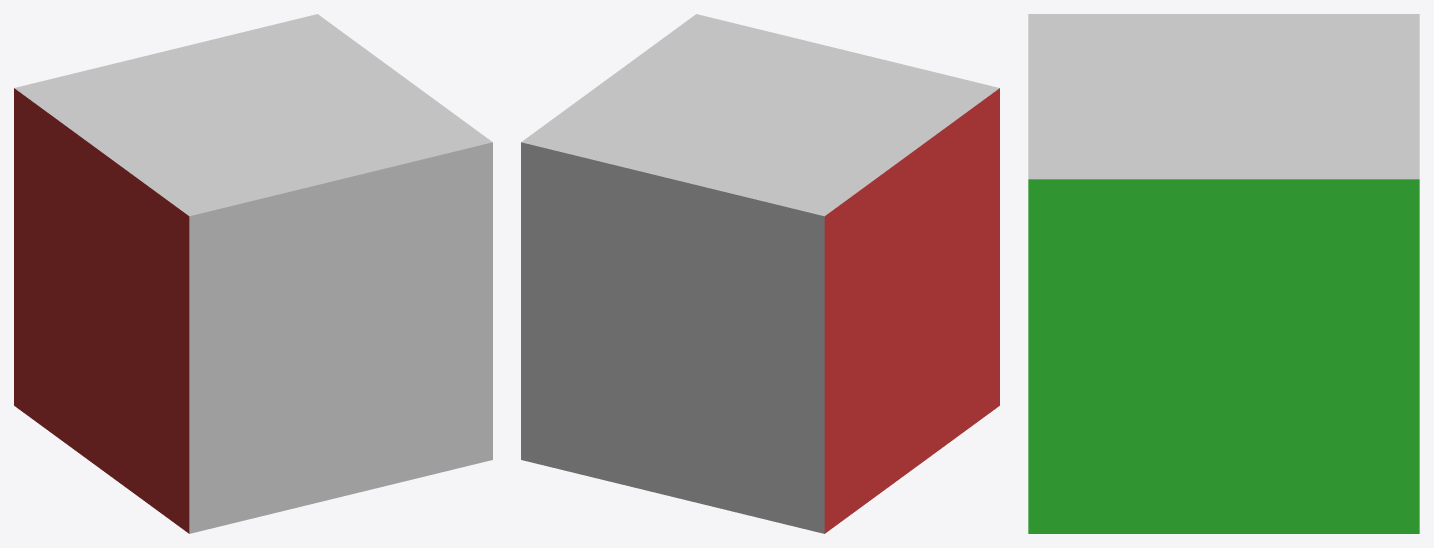
File: cornell_box_closed.gltf
The picture shows the model from 3 angles, left to right: view 1: azimuth 30°, elevation 25°; view 2: azimuth 150°, elevation 25°; view 3: azimuth 270°, elevation 25°; orthographic projection. The views are drawn at different scales.
Parts seen in each view (by area): view 1: FrontWall, LeftWall, Ceiling; view 2: BackWall, LeftWall, Ceiling; view 3: RightWall, Ceiling.
Part boxes in pixels (x1=…): FrontWall: x1=189, y1=142, x2=492, y2=533; LeftWall: x1=14, y1=88, x2=189, y2=533; Ceiling: x1=14, y1=14, x2=492, y2=216; BackWall: x1=521, y1=142, x2=824, y2=533; LeftWall: x1=824, y1=88, x2=999, y2=533; Ceiling: x1=521, y1=14, x2=999, y2=216; RightWall: x1=1028, y1=179, x2=1419, y2=533; Ceiling: x1=1028, y1=14, x2=1419, y2=179.
Bounding box in the file's own units: 4 × 4 × 4.
